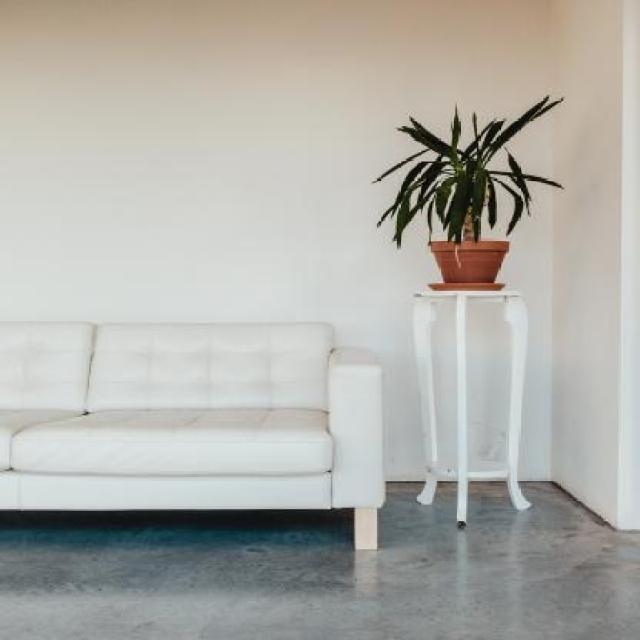floor: (0, 478, 640, 640)
